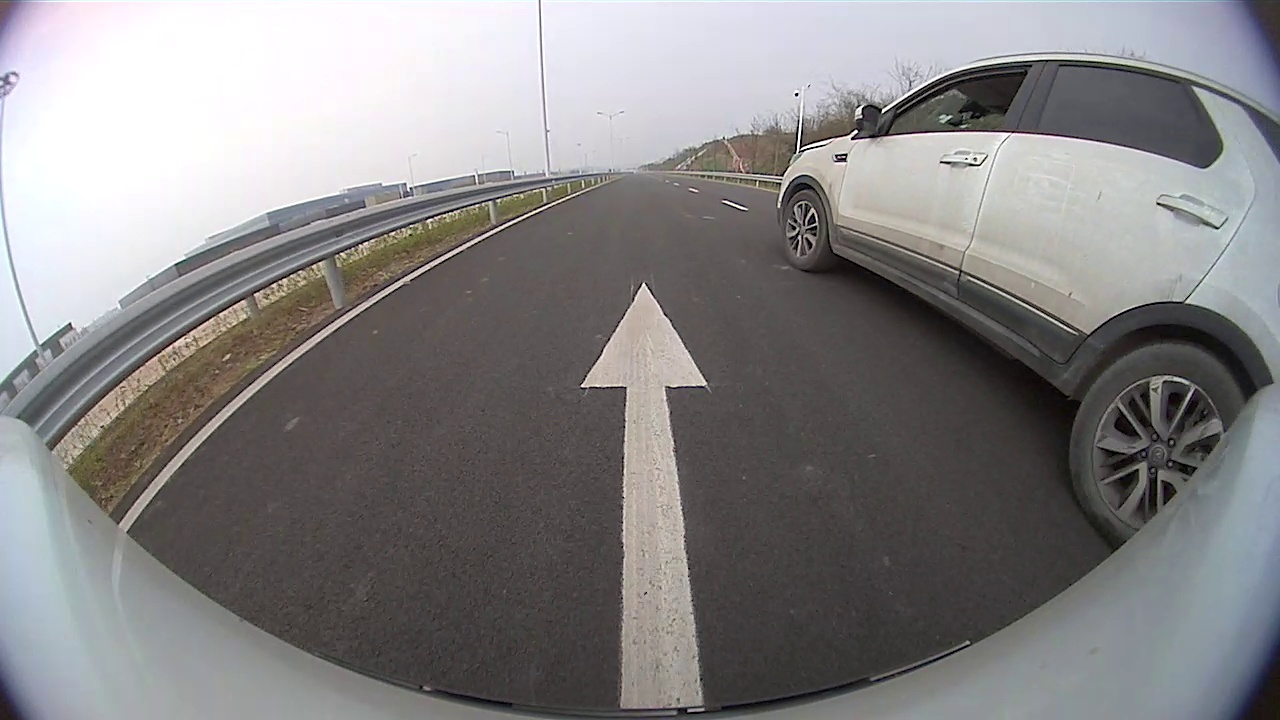car: (775, 51, 1256, 551)
front: (776, 188, 829, 272)
rear: (1066, 342, 1250, 543)
